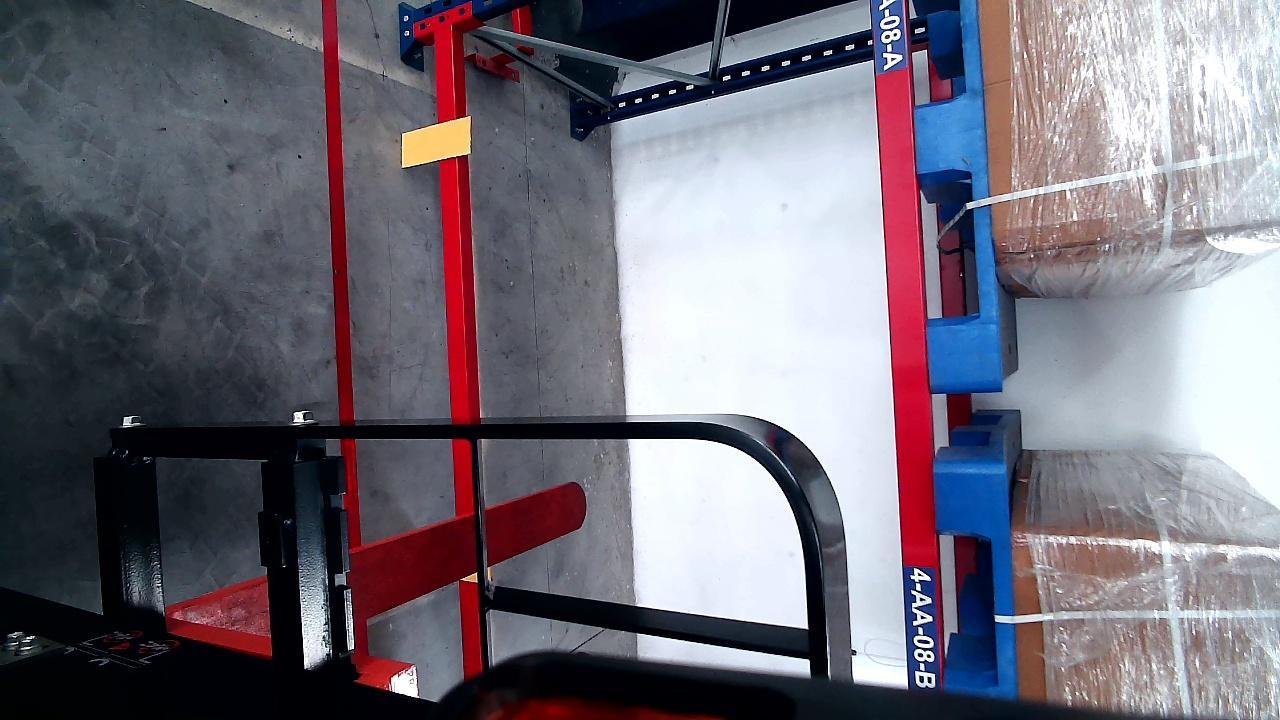red_line: (322, 1, 356, 421)
